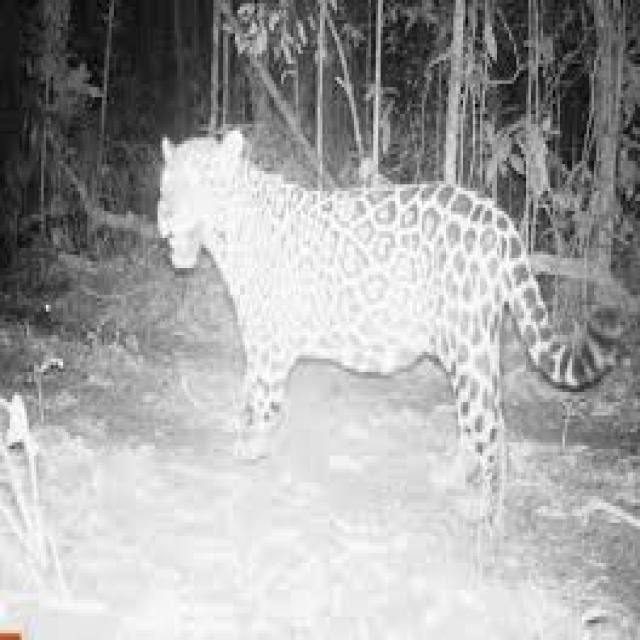Jaguar: (157, 124, 611, 546)
